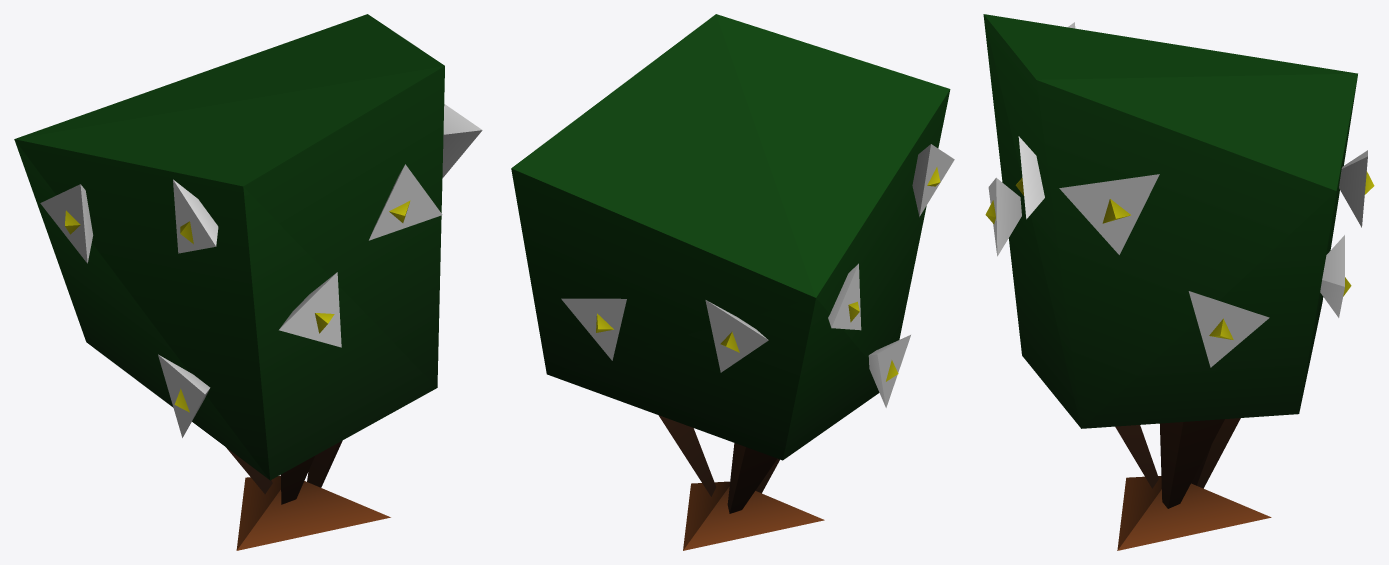
Rendered from c_hedge_square_flower_aa.fbx.
3 views of the same model, side by side, from view 1: azimuth 30°, elevation 25°; view 2: azimuth 150°, elevation 25°; view 3: azimuth 270°, elevation 25° (orthographic). The views are drawn at different scales.
Visible parts, largest first — view 1: c_hedge_square_flower_aa; view 2: c_hedge_square_flower_aa; view 3: c_hedge_square_flower_aa.
Part boxes in pixels (x1,y1,x2,y2): c_hedge_square_flower_aa: (14,14,482,550); c_hedge_square_flower_aa: (511,14,954,550); c_hedge_square_flower_aa: (983,14,1374,550).
Size of the model in its own units: 1.18 by 1.63 by 1.17.
